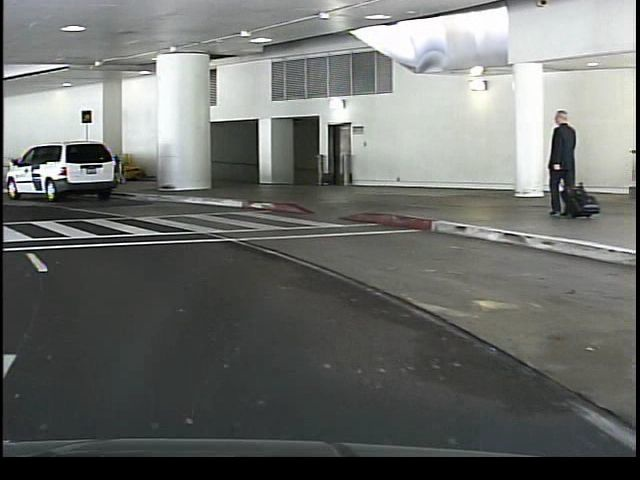person: (540, 103, 578, 223)
